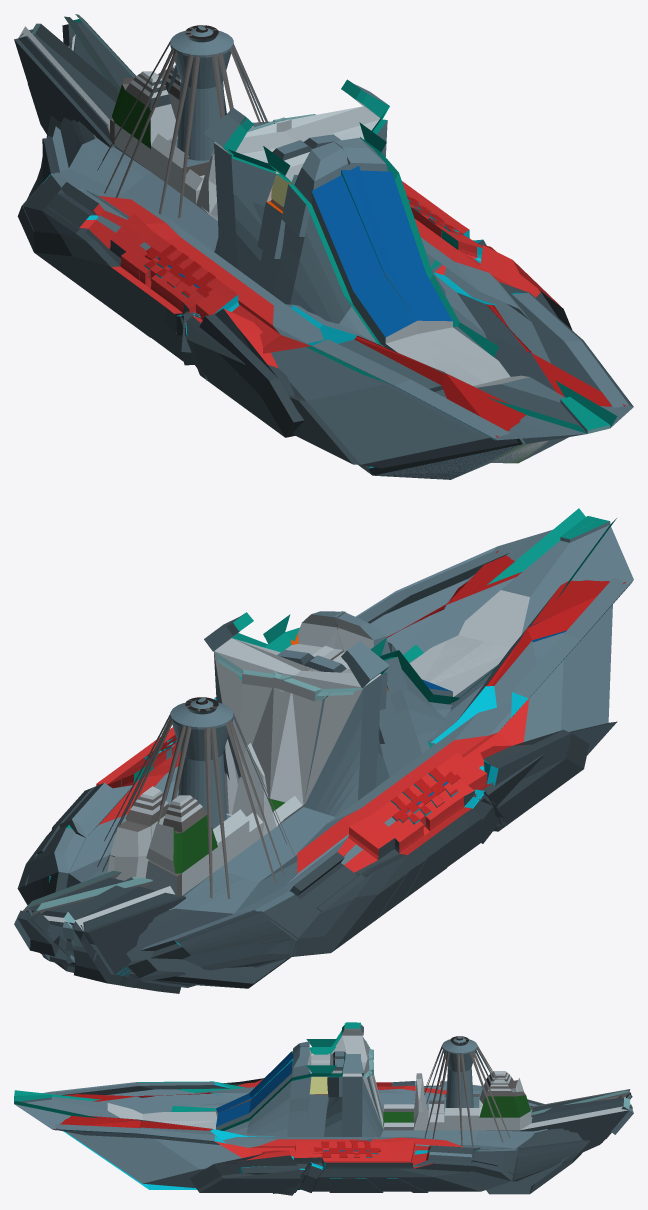
Rendered from 222gemiDUZENLENDI.fbx.
The picture shows the model from 3 angles, top to bottom: view 1: azimuth 30°, elevation 25°; view 2: azimuth 150°, elevation 25°; view 3: azimuth 270°, elevation 25°; orthographic projection. The views are drawn at different scales.
Parts seen in each view (by area): view 1: gemi; view 2: gemi; view 3: gemi.
Boxes of the visible parts, <box> form: gemi: <box>14,14,633,479</box>; gemi: <box>14,508,633,993</box>; gemi: <box>14,1022,633,1195</box>.
Bounding box in the file's own units: 1119 × 815 × 3326.
Materials: 1 (1 with a texture image).
